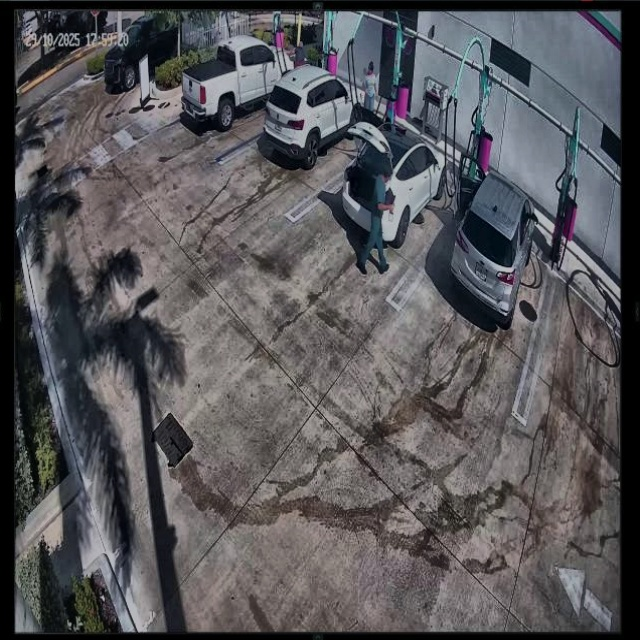Car: (457, 153, 537, 325), (346, 122, 447, 243), (264, 65, 365, 165)
